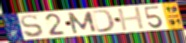2: (43, 13, 67, 38)
5: (143, 5, 165, 29)
D: (91, 9, 117, 34)
H: (116, 5, 147, 32)
M: (66, 11, 99, 35)
S: (19, 14, 45, 38)
